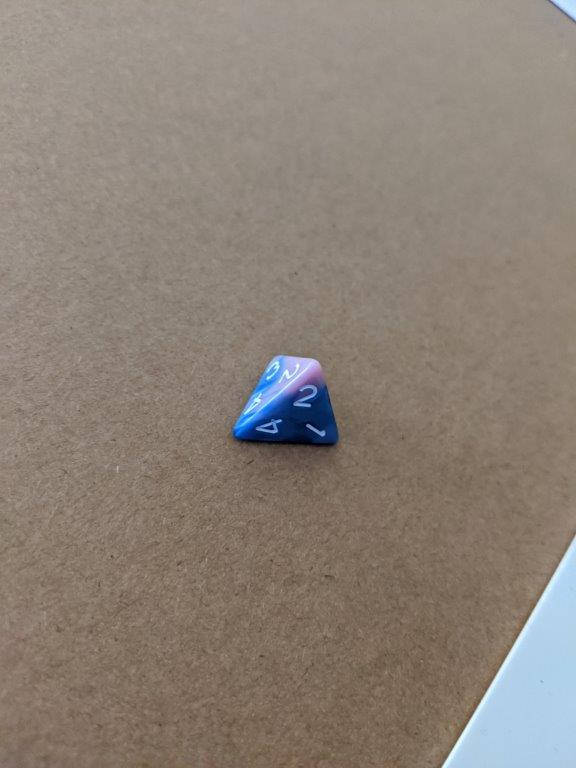d4-2: (223, 342, 350, 455)
